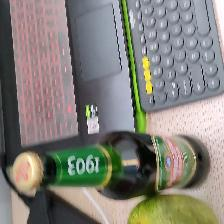gua: (129, 199, 205, 224)
